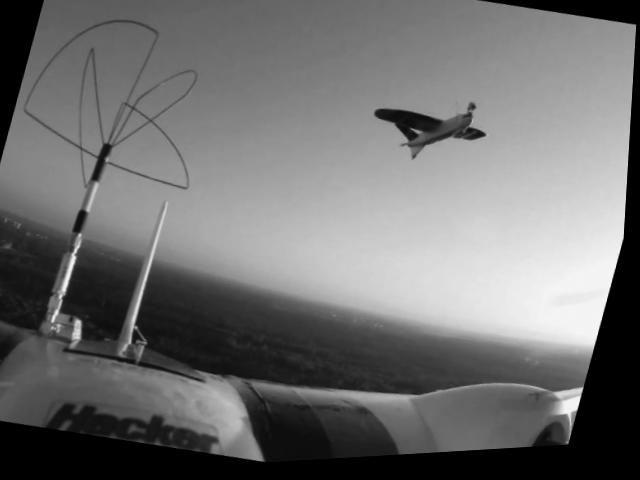hedef: (358, 79, 507, 184)
